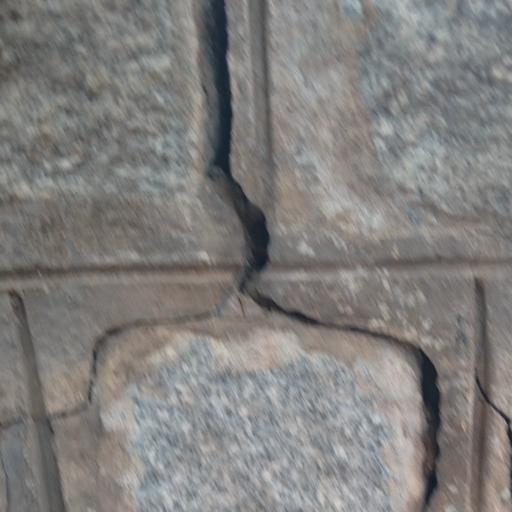major_crack: (156, 0, 457, 512), (8, 272, 202, 456), (473, 349, 512, 461)
